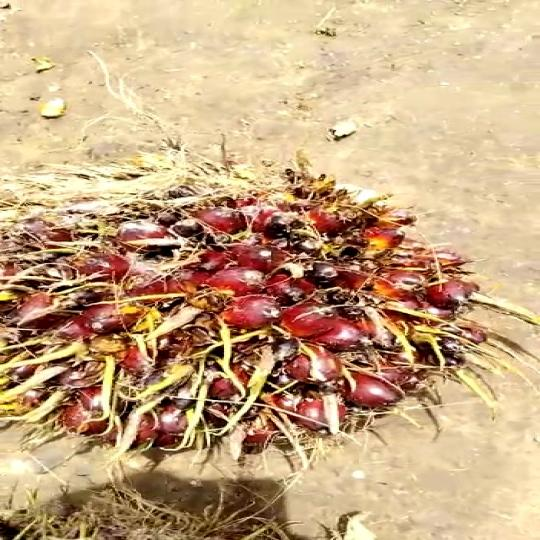masak: (0, 161, 489, 483)
